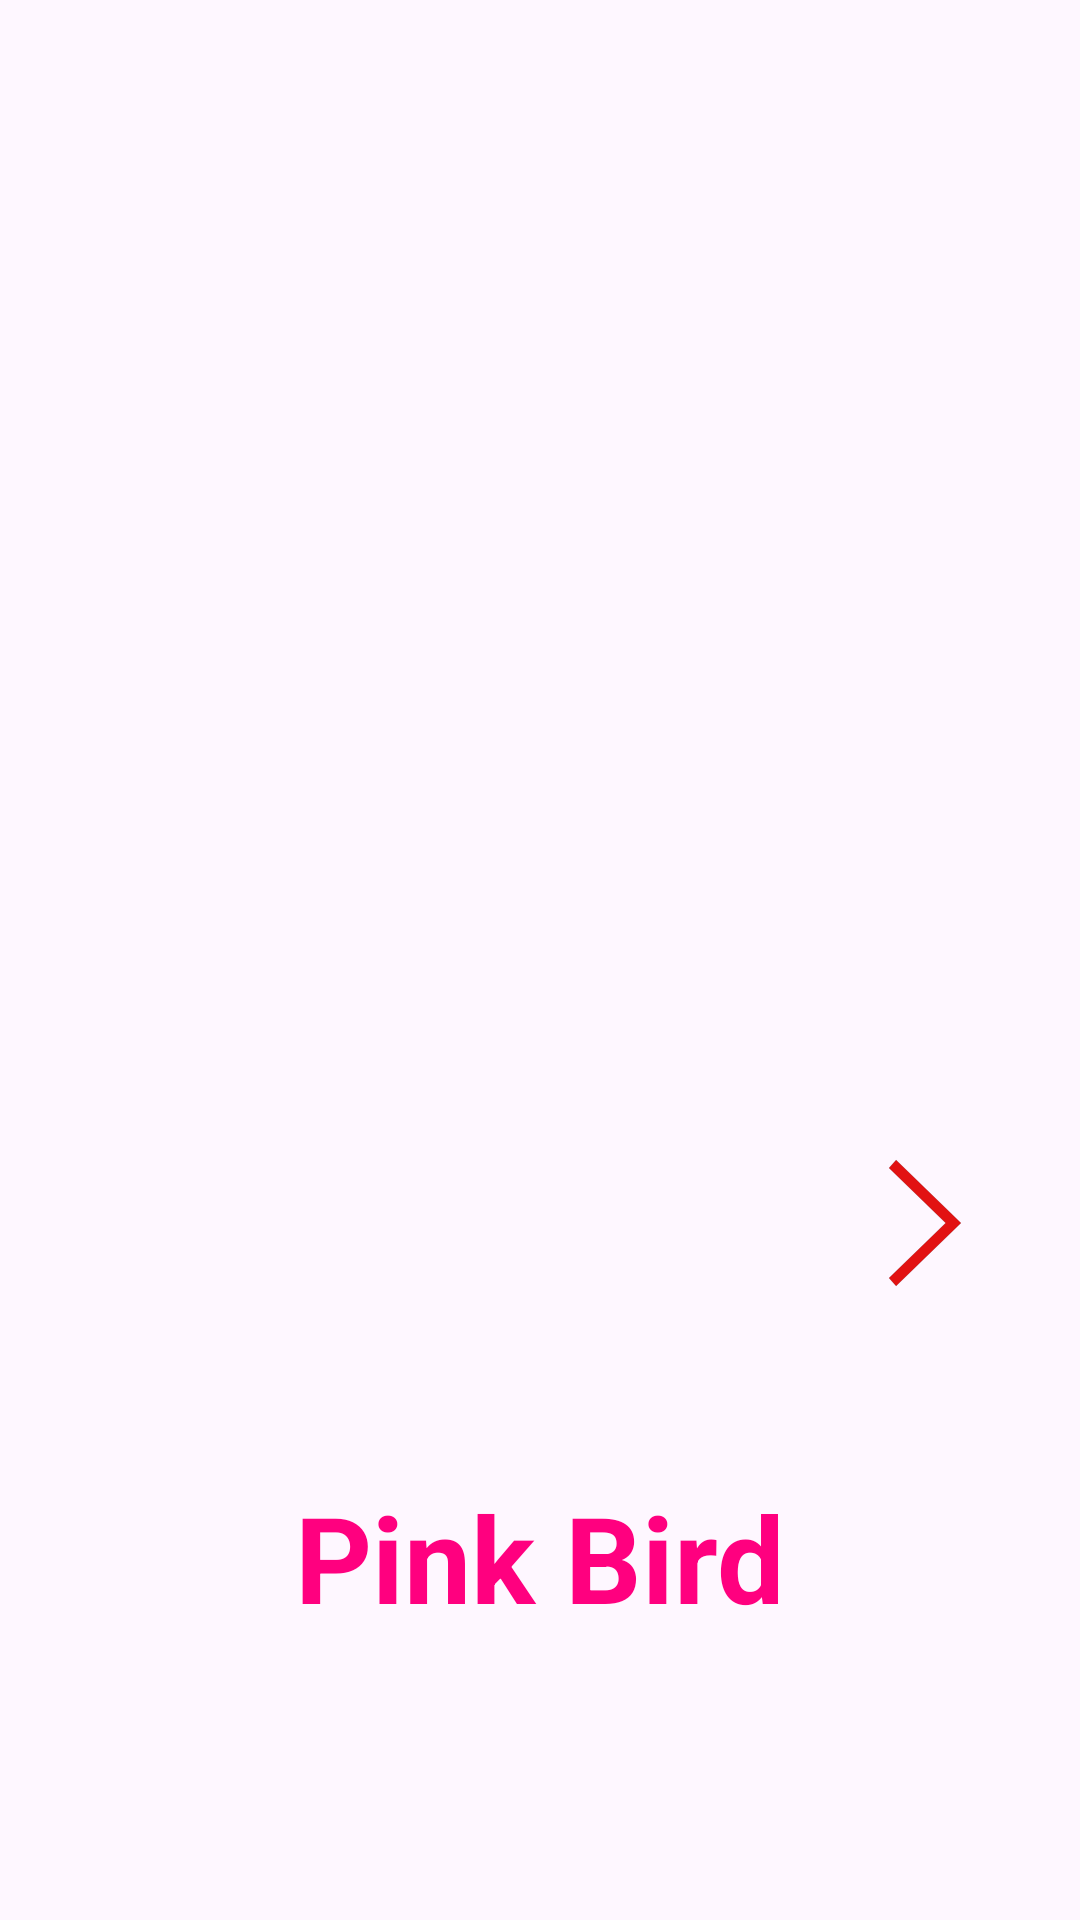

Icon bounding boxes for this 1080×1920 phone screenshot, format (left=x1, top=y1, right=x2, bottom=y2):
right arrow: (left=889, top=1160, right=961, bottom=1286)
